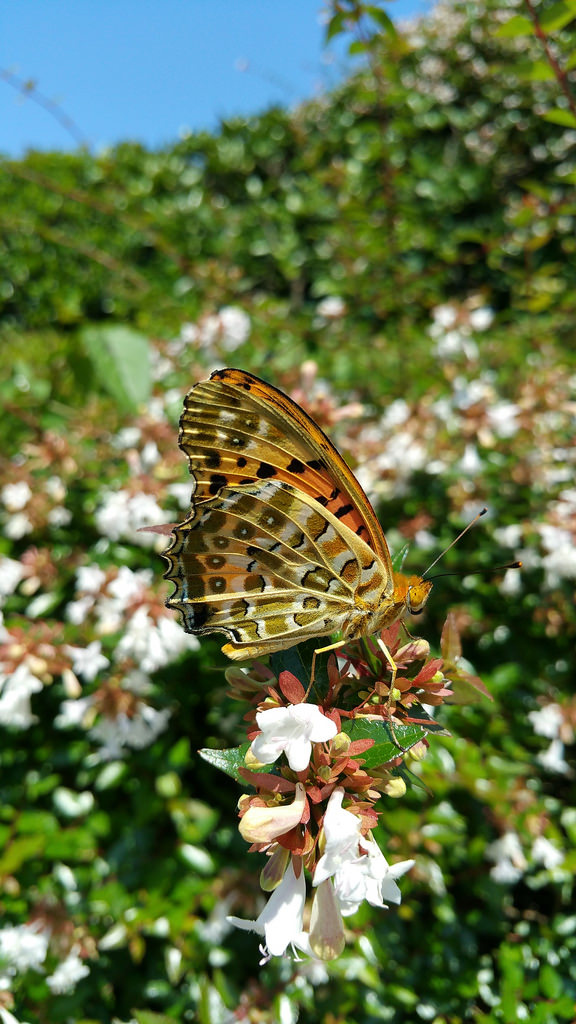Argyreus hyperbius: (149, 367, 522, 757)
butterfly: (151, 369, 524, 759)
